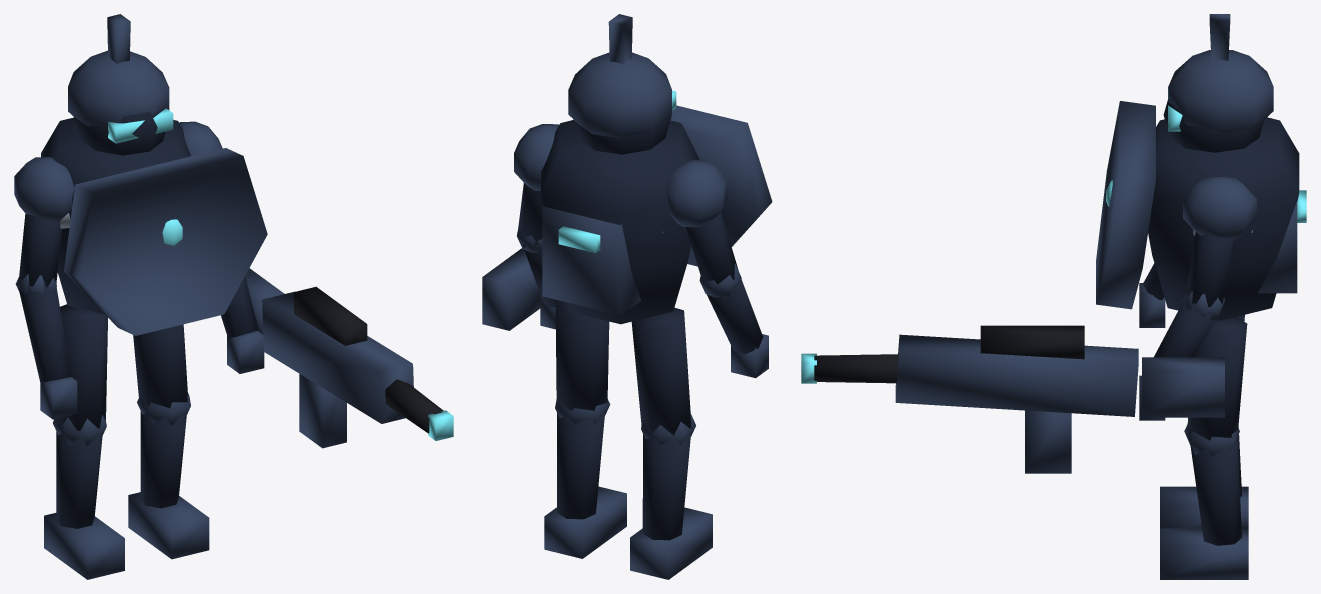
The model's file is unit_human_soldier.obj.
3 views of the same model, side by side, from view 1: azimuth 30°, elevation 25°; view 2: azimuth 150°, elevation 25°; view 3: azimuth 270°, elevation 25° (orthographic). The views are drawn at different scales.
Parts seen in each view (by area): view 1: Soldier_ChestPlate, Soldier_Rifle, Soldier_Helmet, Soldier_Torso, Soldier_Thigh_-1, Soldier_Thigh_1, Soldier_Shin_1, Soldier_Shin_-1, Soldier_Boot_1, Soldier_Boot_-1, Soldier_Forearm_-1, Soldier_Shoulder_-1 (+15 smaller); view 2: Soldier_Torso, Soldier_Backpack, Soldier_Helmet, Soldier_ChestPlate, Soldier_Thigh_-1, Soldier_Thigh_1, Soldier_Shin_-1, Soldier_Shin_1, Soldier_Boot_-1, Soldier_Boot_1, Soldier_Stock, Soldier_Shoulder_-1 (+13 smaller); view 3: Soldier_Torso, Soldier_Rifle, Soldier_ChestPlate, Soldier_Helmet, Soldier_Stock, Soldier_Shin_1, Soldier_Boot_1, Soldier_Shoulder_1, Soldier_Thigh_1, Soldier_Scope, Soldier_Mag, Soldier_UpperArm_1 (+8 smaller).
Boxes of the visible parts, <box> form: Soldier_ChestPlate: <box>64,148,267,335</box>; Soldier_Rifle: <box>262,291,413,423</box>; Soldier_Helmet: <box>68,50,169,126</box>; Soldier_Torso: <box>41,117,190,314</box>; Soldier_Thigh_-1: <box>58,304,107,430</box>; Soldier_Thigh_1: <box>133,324,187,408</box>; Soldier_Shin_1: <box>140,411,186,508</box>; Soldier_Shin_-1: <box>56,431,102,528</box>; Soldier_Boot_1: <box>128,492,209,559</box>; Soldier_Boot_-1: <box>44,513,124,579</box>; Soldier_Forearm_-1: <box>18,280,71,382</box>; Soldier_Shoulder_-1: <box>14,157,74,222</box>; Soldier_Torso: <box>541,120,699,324</box>; Soldier_Backpack: <box>542,203,640,315</box>; Soldier_Helmet: <box>568,52,671,138</box>; Soldier_ChestPlate: <box>573,105,772,266</box>; Soldier_Thigh_-1: <box>631,307,691,435</box>; Soldier_Thigh_1: <box>555,300,609,410</box>; Soldier_Shin_-1: <box>642,432,691,540</box>; Soldier_Shin_1: <box>557,411,605,519</box>; Soldier_Boot_-1: <box>630,507,712,579</box>; Soldier_Boot_1: <box>544,486,626,558</box>; Soldier_Stock: <box>482,248,540,330</box>; Soldier_Shoulder_-1: <box>666,160,727,227</box>; Soldier_Torso: <box>1148,117,1299,320</box>; Soldier_Rifle: <box>895,334,1138,416</box>; Soldier_ChestPlate: <box>1096,101,1155,309</box>; Soldier_Helmet: <box>1168,50,1273,132</box>; Soldier_Stock: <box>1142,357,1224,417</box>; Soldier_Shin_1: <box>1190,437,1241,545</box>; Soldier_Boot_1: <box>1160,528,1248,579</box>; Soldier_Shoulder_1: <box>1183,177,1256,239</box>; Soldier_Thigh_1: <box>1187,317,1247,440</box>; Soldier_Scope: <box>980,325,1084,359</box>; Soldier_Mag: <box>1025,410,1071,473</box>; Soldier_UpperArm_1: <box>1185,232,1233,306</box>.
Size of the model in its own units: 1.07 by 2.2 by 1.89.
